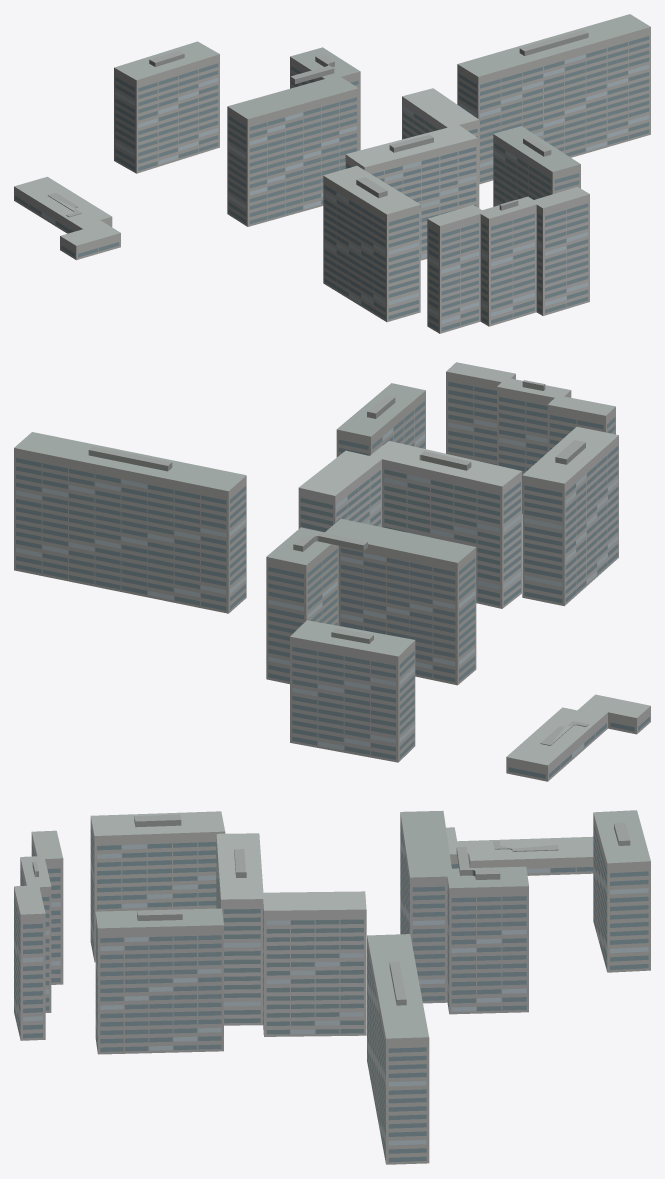
The model's file is apt-a15086007.glb.
3 renders of one model, top to bottom at view 1: azimuth 30°, elevation 25°; view 2: azimuth 150°, elevation 25°; view 3: azimuth 270°, elevation 25°, orthographic. The views are drawn at different scales.
Visible parts, largest first — view 1: apt-a15086007; view 2: apt-a15086007; view 3: apt-a15086007.
Part boxes in pixels (box(x1,y1,x2,y2)): apt-a15086007: box(14, 14, 650, 333); apt-a15086007: box(14, 362, 650, 781); apt-a15086007: box(14, 810, 650, 1164).
Bounding box in the file's own units: 249 × 47.81 × 209.
